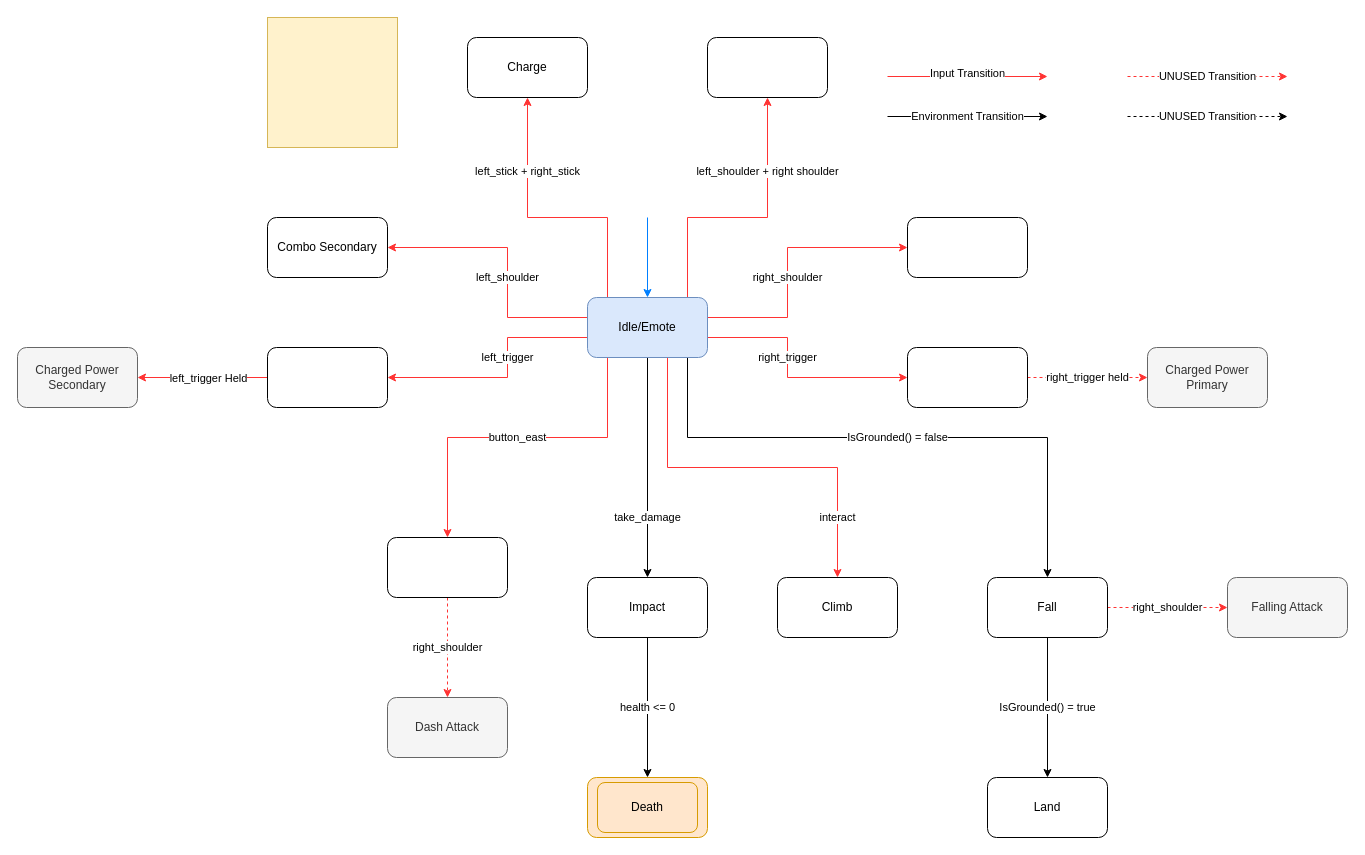
Image size: 1365x855. Some labels were removed from this diagram. Here are the shapes that lost their labels. From the top down, the centre of each, then its label:
At (332,82): "All states transition back to the Idle State except for Idle itself and Death".
At (767,67): "Cast".
At (967,247): "Combo Primary".
At (327,377): "Power Secondary".
At (967,377): "Power Primary".
At (447,567): "Dash".
